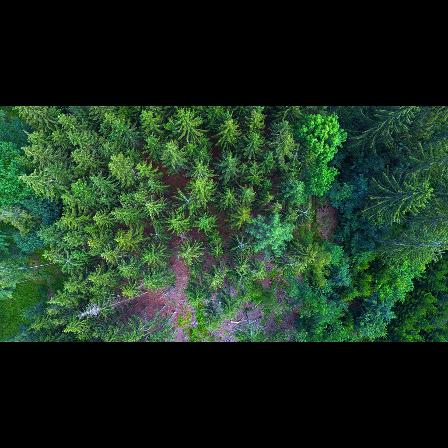Dead: (72, 300, 113, 318)
Sick: (230, 234, 252, 256), (293, 205, 315, 222)
